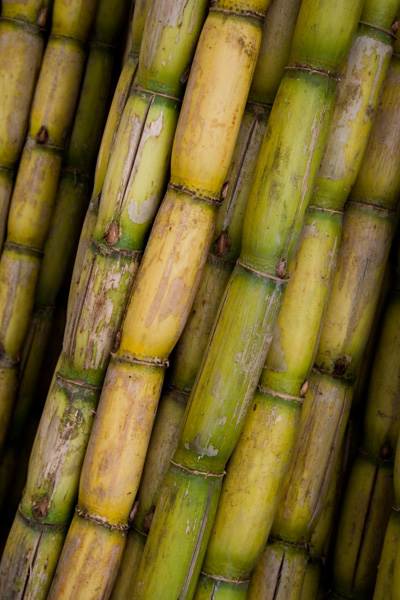cane eye: (103, 220, 124, 251), (212, 227, 232, 256), (32, 495, 52, 522), (274, 256, 291, 284), (213, 179, 232, 204), (295, 377, 311, 402), (35, 126, 51, 145)
